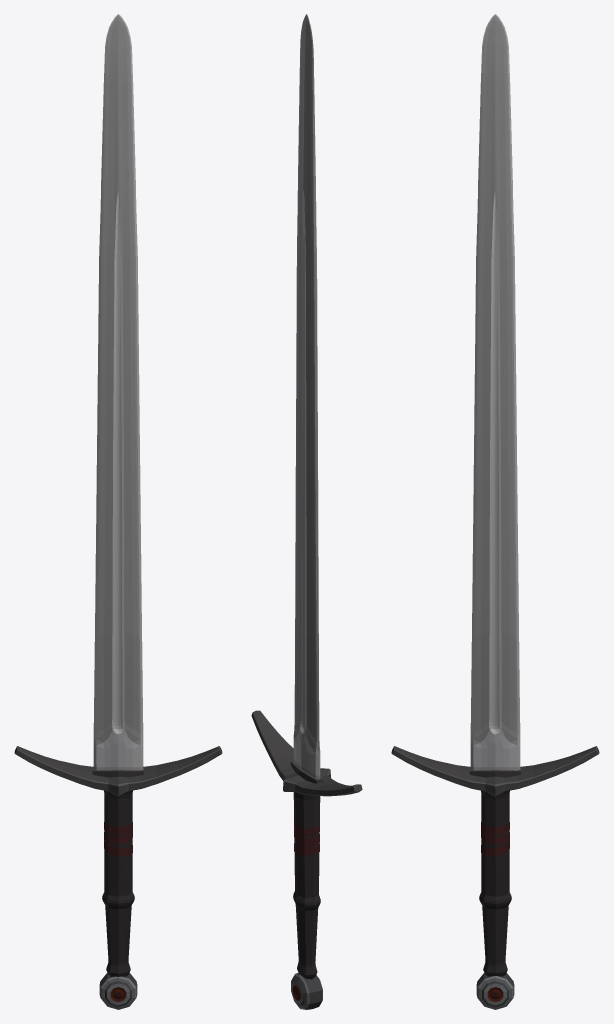
The model's file is bladedHeavyTwoHandedSword.glb.
3 views of the same model, side by side, from view 1: azimuth 90°, elevation 25°; view 2: azimuth 210°, elevation 25°; view 3: azimuth 270°, elevation 25° (orthographic).
Parts seen in each view (by area): view 1: bladedHeavyTwoHandedSword; view 2: bladedHeavyTwoHandedSword; view 3: bladedHeavyTwoHandedSword.
Boxes of the visible parts, bbox=[...] form: bladedHeavyTwoHandedSword: bbox=[14, 14, 222, 1009]; bladedHeavyTwoHandedSword: bbox=[251, 14, 362, 1009]; bladedHeavyTwoHandedSword: bbox=[391, 14, 599, 1009].
Size of the model in its own units: 0.0789 by 1.57 by 0.2982.
